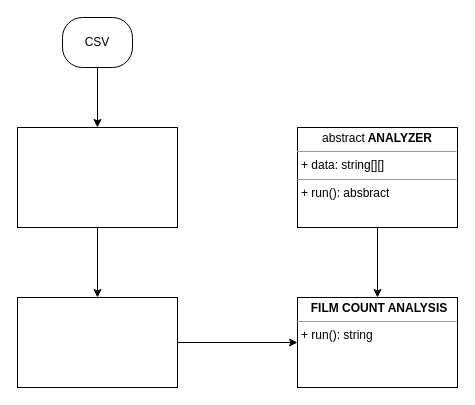
This 475x405 diagram has some shape labels left out. Each missing label, with the box of its shape:
abstract CSV READER + data: string[][] + read(): void: (16, 126, 178, 228)
FILM READER + mapRow(): array: (16, 296, 178, 388)
